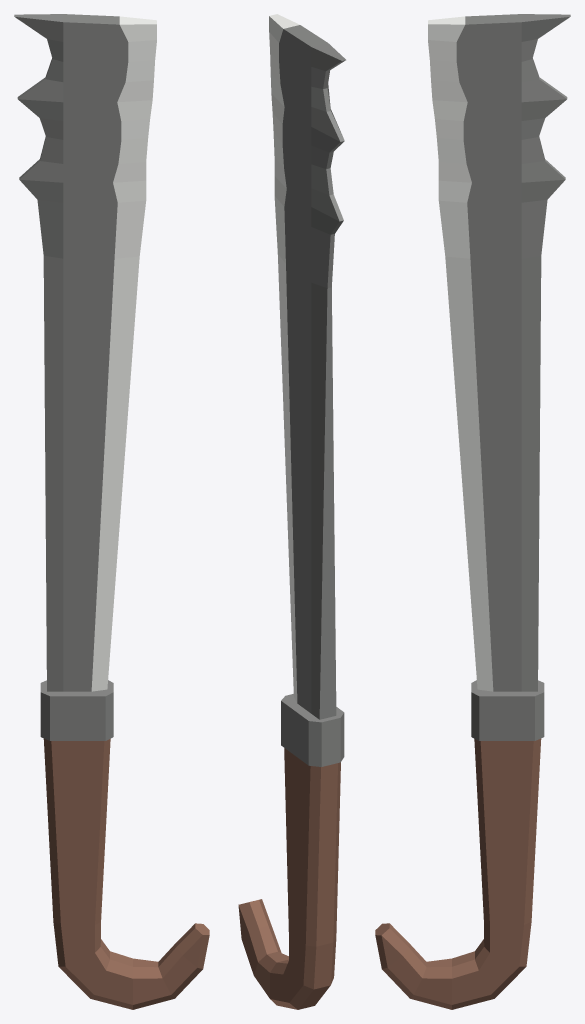
File: War Cleaver.glb
3 renders of one model, left to right at view 1: azimuth 90°, elevation 25°; view 2: azimuth 210°, elevation 25°; view 3: azimuth 270°, elevation 25°, orthographic.
Visible parts, largest first — view 1: War Cleaver; view 2: War Cleaver; view 3: War Cleaver.
Boxes of the visible parts, x1,y1,x2,y2 form: War Cleaver: (14, 14, 209, 1009); War Cleaver: (238, 14, 345, 1009); War Cleaver: (375, 14, 570, 1009).
Size of the model in its own units: 0.0188 by 0.4976 by 0.089.
